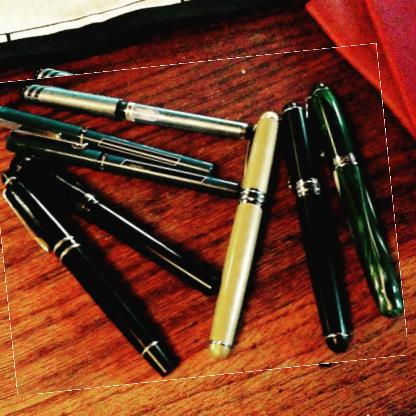Pen: (0, 53, 401, 386), (168, 114, 317, 364)
